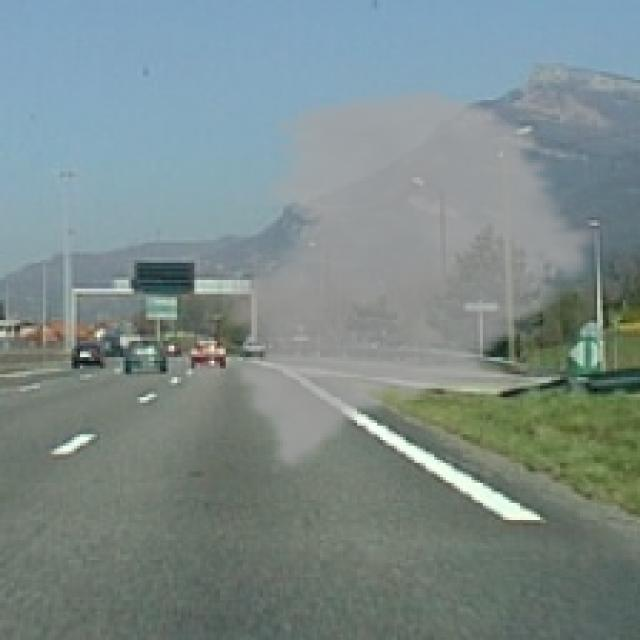Smoke: (208, 82, 603, 472)
